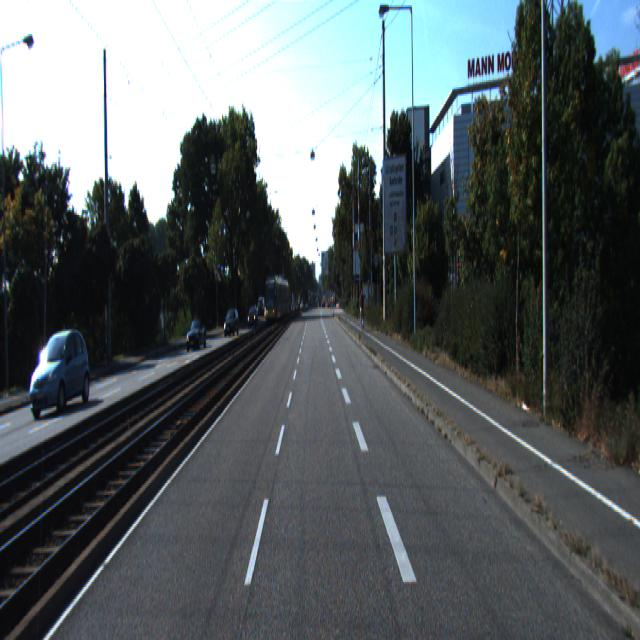Car: (29, 328, 94, 422), (186, 318, 207, 352)
